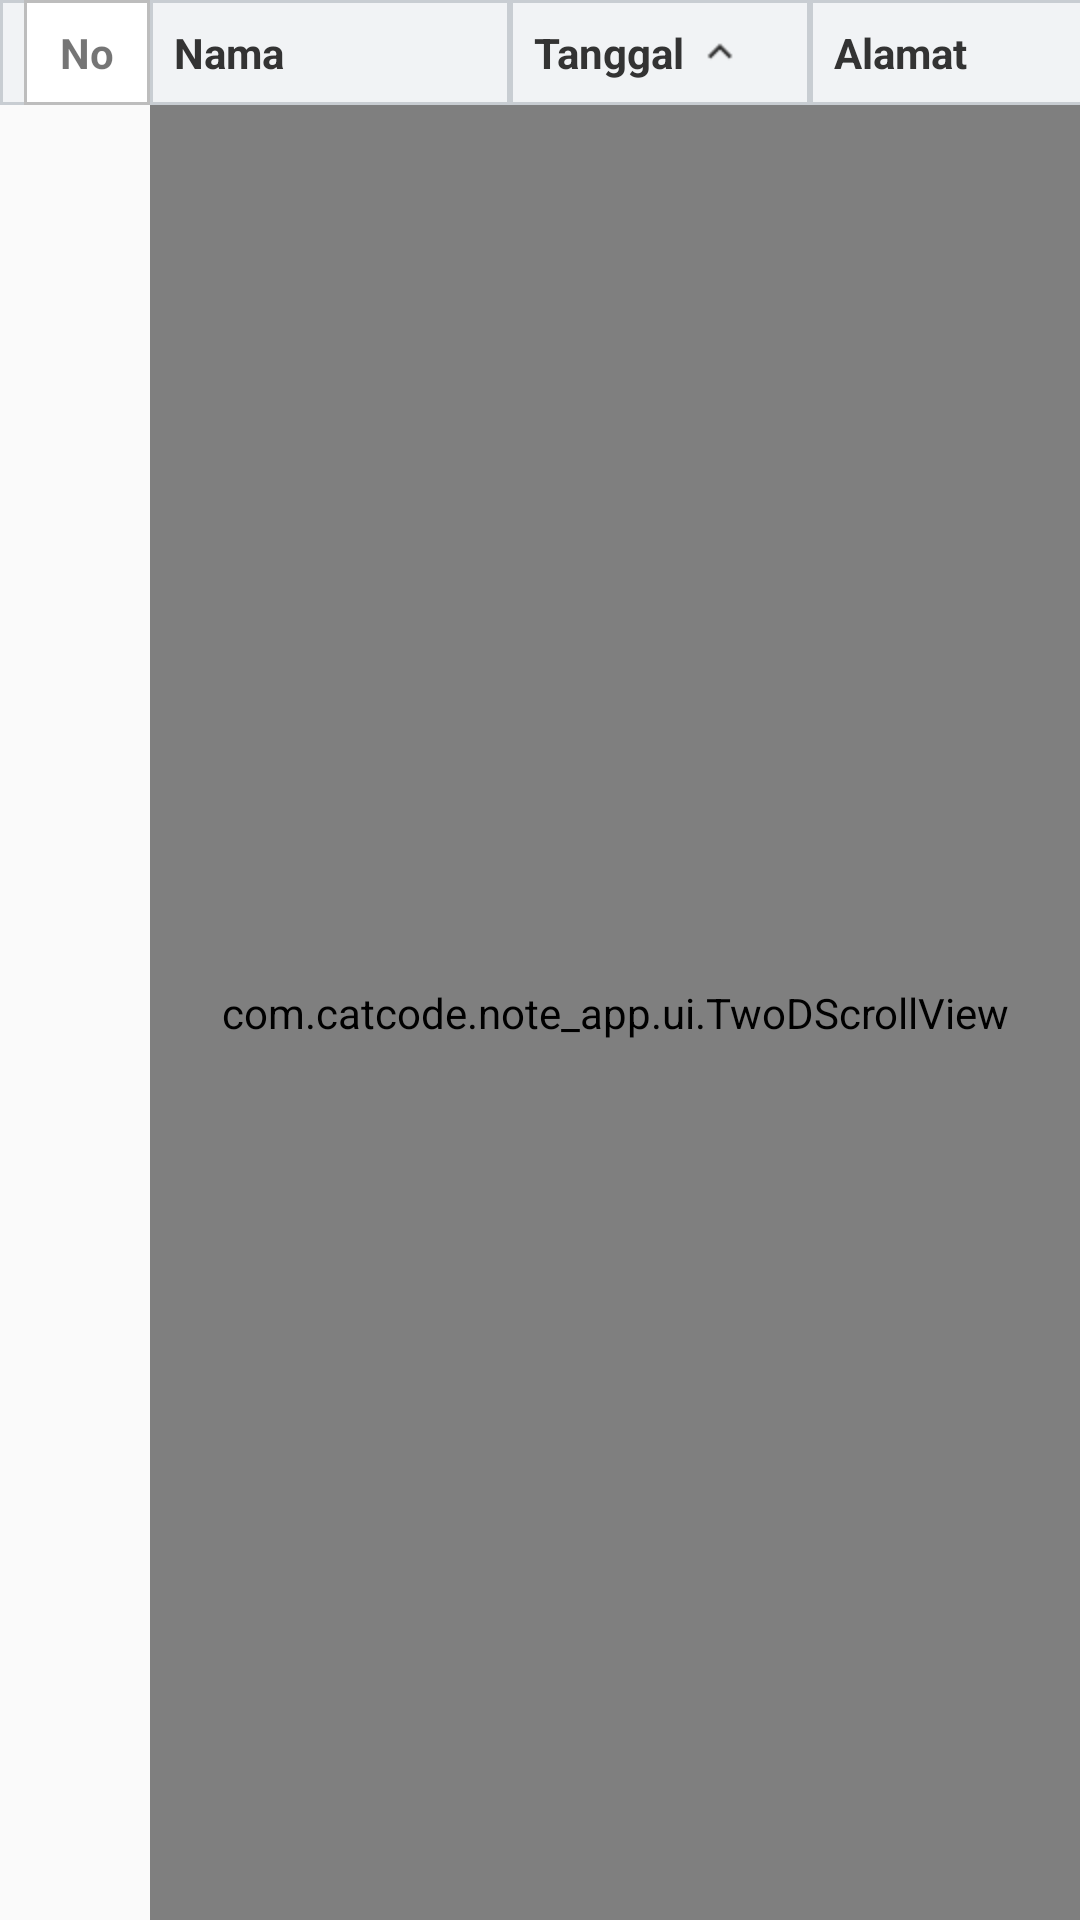

Icons on this 1080×1920 Android screen, each with its box as [left=x1, top=y1, right=x2, bottom=y2]:
arrow up: [left=707, top=43, right=732, bottom=59]
